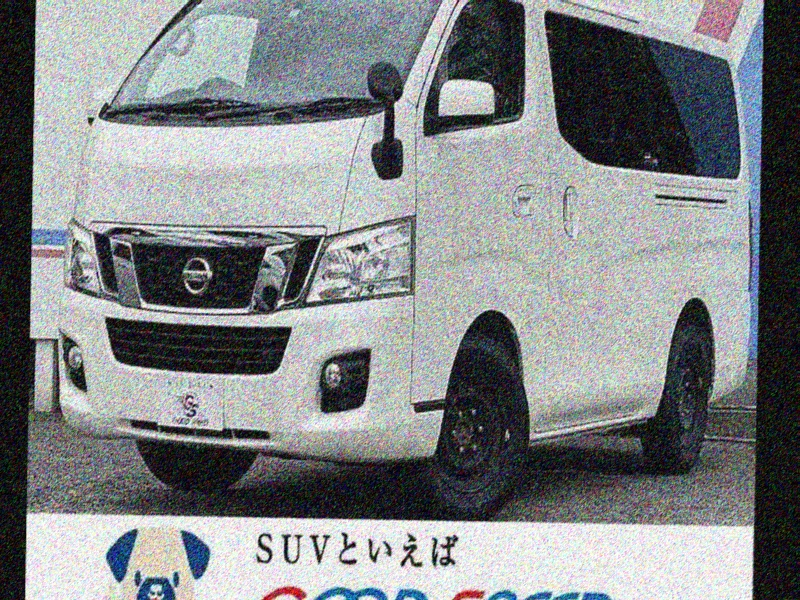van: (62, 0, 759, 488)
